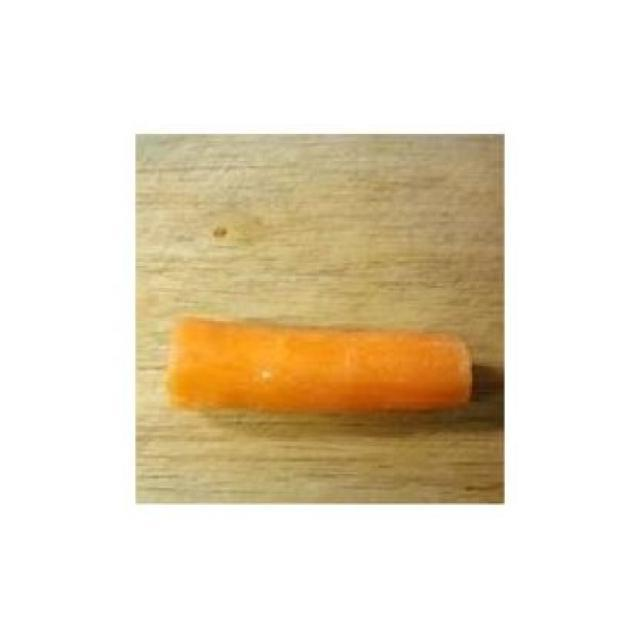carrot: (146, 298, 488, 450)
